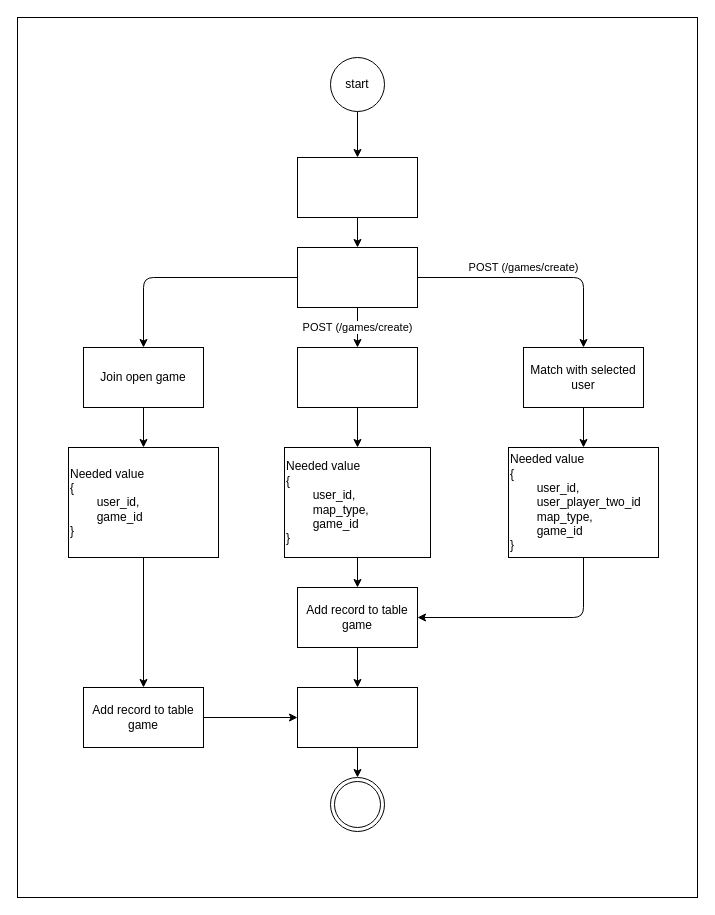
This 715x915 diagram has some shape labels left out. The shapes that lost their labels are listed below. From the top down, each one's centre as x and y in pixels, then its label:
At (357,187): "Create new game (/games)".
At (357,277): "Display game selection".
At (357,377): "Match without selected user".
At (357,717): "Redirect to game session (/games/:id/)".
